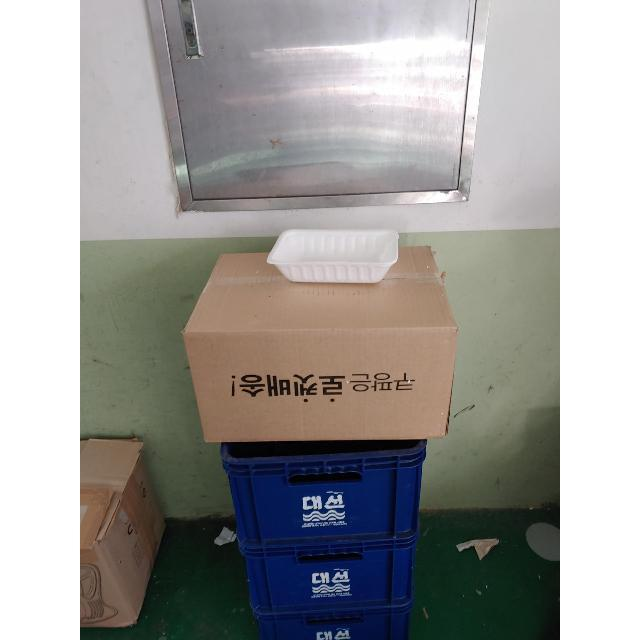Plastico descartable: (266, 229, 400, 286)
